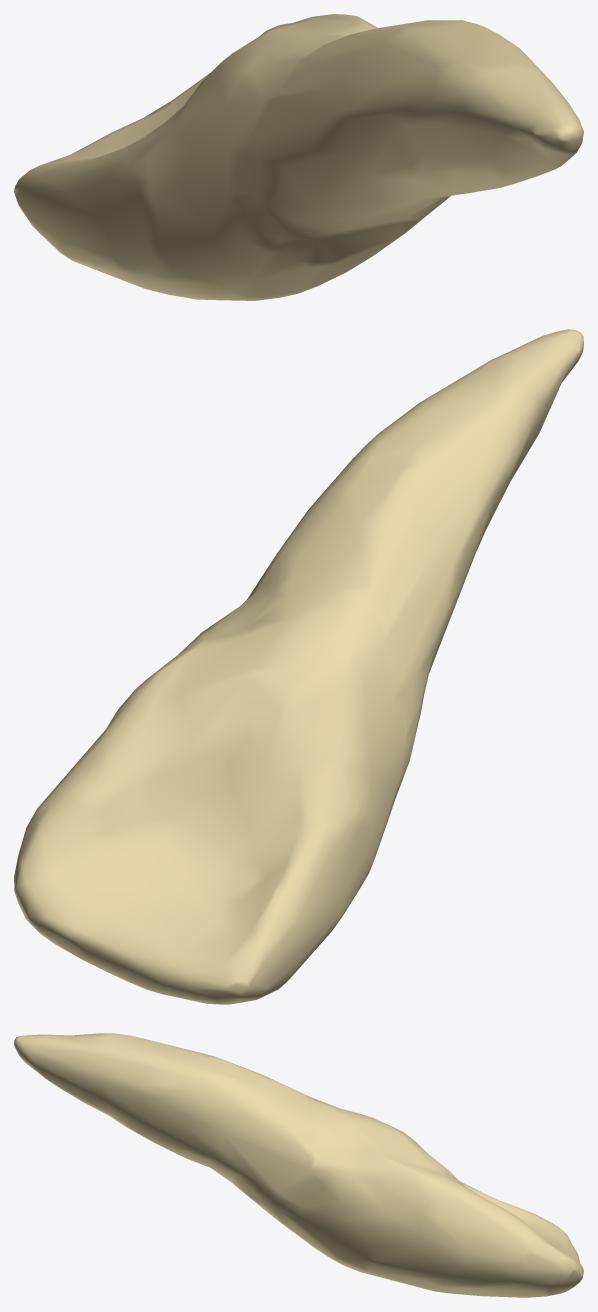
3 views of the same model, one above another, from view 1: azimuth 30°, elevation 25°; view 2: azimuth 150°, elevation 25°; view 3: azimuth 270°, elevation 25° (orthographic). The views are drawn at different scales.
Visible parts, largest first — view 1: 左侧上颌中切牙; view 2: 左侧上颌中切牙; view 3: 左侧上颌中切牙.
Part boxes in pixels (x1,y1,x2,y2): 左侧上颌中切牙: [14, 14, 583, 300]; 左侧上颌中切牙: [14, 329, 583, 1004]; 左侧上颌中切牙: [14, 1033, 583, 1297].
Size of the model in its own units: 0.0129 by 0.0186 by 0.0379.
